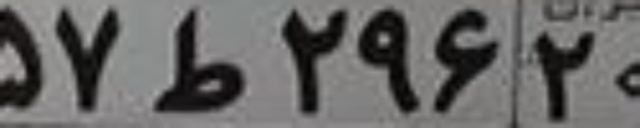0: (612, 62, 638, 100)
2: (273, 10, 350, 112), (533, 29, 598, 121)
5: (0, 5, 44, 108)
6: (427, 10, 500, 113)
7: (55, 5, 122, 110)
9: (356, 8, 420, 112)
taa: (153, 8, 244, 112)
